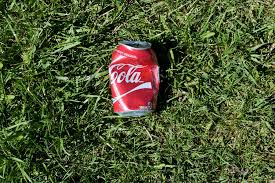Coca-Cola: (112, 65, 148, 88)
